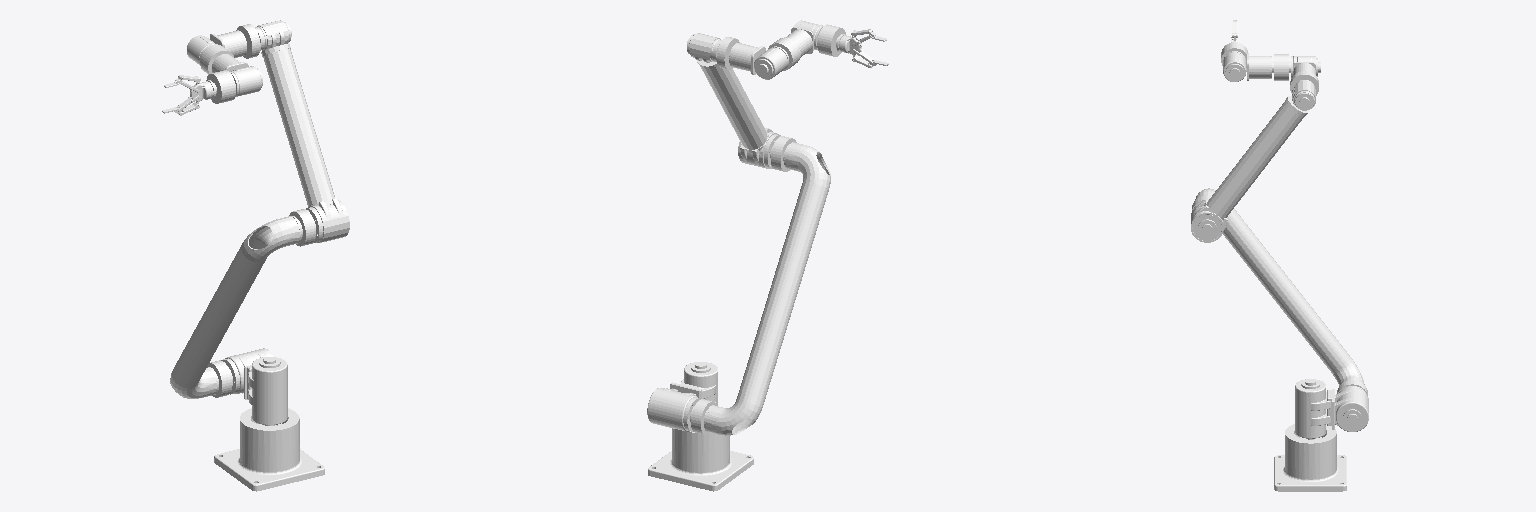
The robot description file, URDF, robot "qf_space_manipulator":
<?xml version="1.0" encoding="utf-8"?>
<!-- This URDF was automatically created by SolidWorks to URDF Exporter! Originally created by [author] ([email redacted]) 
     Commit Version: 1.6.0-1-g15f4949  Build Version: 1.6.7594.29634
     For more information, please see http://wiki.ros.org/sw_urdf_exporter -->
<robot
  name="qf_space_manipulator">
  <link
    name="base_link">
    <inertial>
      <origin
        xyz="0.175000065234684 -1.28353998601978 0.0846256448065584"
        rpy="0 0 0" />
      <mass
        value="9.63410834932178" />
      <inertia
        ixx="0.118228807956081"
        ixy="-5.0957321181862E-07"
        ixz="1.72062364122864E-09"
        iyy="0.118225953121689"
        iyz="4.16913652507129E-17"
        izz="0.137194156018786" />
    </inertial>
    <visual>
      <origin
        xyz="0 0 0"
        rpy="0 0 0" />
      <geometry>
        <mesh
          filename="package://qf_space_manipulator/meshes/base_link.STL" />
      </geometry>
      <material
        name="">
        <color
          rgba="1 1 1 1" />
      </material>
    </visual>
    <collision>
      <origin
        xyz="0 0 0"
        rpy="0 0 0" />
      <geometry>
        <mesh
          filename="package://qf_space_manipulator/meshes/base_link.STL" />
      </geometry>
    </collision>
  </link>
  <link
    name="Link1">
    <inertial>
      <origin
        xyz="-0.10023640362579 -0.00344641251692088 0.174250351355485"
        rpy="0 0 0" />
      <mass
        value="5.17491872844292" />
      <inertia
        ixx="0.0304221927243367"
        ixy="0.00255793298706213"
        ixz="0.000566537933529525"
        iyy="0.0524628663009184"
        iyz="-5.38795635070424E-05"
        izz="0.0437592826397428" />
    </inertial>
    <visual>
      <origin
        xyz="0 0 0"
        rpy="0 0 0" />
      <geometry>
        <mesh
          filename="package://qf_space_manipulator/meshes/Link1.STL" />
      </geometry>
      <material
        name="">
        <color
          rgba="1 1 1 1" />
      </material>
    </visual>
    <collision>
      <origin
        xyz="0 0 0"
        rpy="0 0 0" />
      <geometry>
        <mesh
          filename="package://qf_space_manipulator/meshes/Link1.STL" />
      </geometry>
    </collision>
  </link>
  <joint
    name="joint1"
    type="revolute">
    <origin
      xyz="0.175 -1.28353998602675 0.180000000000021"
      rpy="0 0 -1.5707963267949" />
    <parent
      link="base_link" />
    <child
      link="Link1" />
    <axis
      xyz="0 0 -1" />
    <limit
      lower="0"
      upper="0"
      effort="0"
      velocity="0" />
  </joint>
  <link
    name="Link2">
    <inertial>
      <origin
        xyz="0.466771973200787 -0.0200679208590893 0.656279146890149"
        rpy="0 0 0" />
      <mass
        value="5.06670898247749" />
      <inertia
        ixx="0.3470792896805"
        ixy="1.04550875056428E-05"
        ixz="-0.229276580302284"
        iyy="0.500779642027053"
        iyz="1.48421856668549E-05"
        izz="0.187791160297581" />
    </inertial>
    <visual>
      <origin
        xyz="0 0 0"
        rpy="0 0 0" />
      <geometry>
        <mesh
          filename="package://qf_space_manipulator/meshes/Link2.STL" />
      </geometry>
      <material
        name="">
        <color
          rgba="1 1 1 1" />
      </material>
    </visual>
    <collision>
      <origin
        xyz="0 0 0"
        rpy="0 0 0" />
      <geometry>
        <mesh
          filename="package://qf_space_manipulator/meshes/Link2.STL" />
      </geometry>
    </collision>
  </link>
  <joint
    name="joint2"
    type="revolute">
    <origin
      xyz="-0.199999999999705 -0.164019999999946 0.179999999999324"
      rpy="0 0 0" />
    <parent
      link="Link1" />
    <child
      link="Link2" />
    <axis
      xyz="0 -1 0" />
    <limit
      lower="0"
      upper="0"
      effort="0"
      velocity="0" />
  </joint>
  <link
    name="Link3">
    <inertial>
      <origin
        xyz="-0.26645118399556 -0.079424732084338 0.38167788397144"
        rpy="0 0 0" />
      <mass
        value="3.09946963131409" />
      <inertia
        ixx="0.149105958907437"
        ixy="-1.89957749734383E-05"
        ixz="0.0977586144353564"
        iyy="0.219315567296226"
        iyz="2.72491726693336E-05"
        izz="0.0773167516090272" />
    </inertial>
    <visual>
      <origin
        xyz="0 0 0"
        rpy="0 0 0" />
      <geometry>
        <mesh
          filename="package://qf_space_manipulator/meshes/Link3.STL" />
      </geometry>
      <material
        name="">
        <color
          rgba="1 1 1 1" />
      </material>
    </visual>
    <collision>
      <origin
        xyz="0 0 0"
        rpy="0 0 0" />
      <geometry>
        <mesh
          filename="package://qf_space_manipulator/meshes/Link3.STL" />
      </geometry>
    </collision>
  </link>
  <joint
    name="joint3"
    type="revolute">
    <origin
      xyz="0.695520649063987 0.219020000000473 0.97788088575548"
      rpy="0 0 0" />
    <parent
      link="Link2" />
    <child
      link="Link3" />
    <axis
      xyz="0 1 0" />
    <limit
      lower="0"
      upper="0"
      effort="0"
      velocity="0" />
  </joint>
  <link
    name="Link4">
    <inertial>
      <origin
        xyz="0.0339777660443481 -0.108927859924944 -5.01533037322588E-09"
        rpy="0 0 0" />
      <mass
        value="1.32312071913896" />
      <inertia
        ixx="0.0040376799409881"
        ixy="2.8629913833031E-06"
        ixz="-4.78825536786573E-11"
        iyy="0.0025574469782764"
        iyz="-2.53060943732125E-10"
        izz="0.00390753680935879" />
    </inertial>
    <visual>
      <origin
        xyz="0 0 0"
        rpy="0 0 0" />
      <geometry>
        <mesh
          filename="package://qf_space_manipulator/meshes/Link4.STL" />
      </geometry>
      <material
        name="">
        <color
          rgba="1 1 1 1" />
      </material>
    </visual>
    <collision>
      <origin
        xyz="0 0 0"
        rpy="0 0 0" />
      <geometry>
        <mesh
          filename="package://qf_space_manipulator/meshes/Link4.STL" />
      </geometry>
    </collision>
  </link>
  <joint
    name="joint4"
    type="revolute">
    <origin
      xyz="-0.466520649051403 -0.211099999835117 0.668269020696948"
      rpy="0 0 0" />
    <parent
      link="Link3" />
    <child
      link="Link4" />
    <axis
      xyz="0 1 0" />
    <limit
      lower="0"
      upper="0"
      effort="0"
      velocity="0" />
  </joint>
  <link
    name="Link5">
    <inertial>
      <origin
        xyz="0.116820494902411 -0.0388858014695093 9.49856462728604E-05"
        rpy="0 0 0" />
      <mass
        value="1.49665109696271" />
      <inertia
        ixx="0.00362010787485334"
        ixy="2.87189467699518E-06"
        ixz="-7.52821732655946E-09"
        iyy="0.00411237521489435"
        iyz="2.18423673209098E-06"
        izz="0.00497019007843053" />
    </inertial>
    <visual>
      <origin
        xyz="0 0 0"
        rpy="0 0 0" />
      <geometry>
        <mesh
          filename="package://qf_space_manipulator/meshes/Link5.STL" />
      </geometry>
      <material
        name="">
        <color
          rgba="1 1 1 1" />
      </material>
    </visual>
    <collision>
      <origin
        xyz="0 0 0"
        rpy="0 0 0" />
      <geometry>
        <mesh
          filename="package://qf_space_manipulator/meshes/Link5.STL" />
      </geometry>
    </collision>
  </link>
  <joint
    name="joint5"
    type="revolute">
    <origin
      xyz="0.157999999987109 -0.17700000017881 0"
      rpy="0 0 0" />
    <parent
      link="Link4" />
    <child
      link="Link5" />
    <axis
      xyz="-1 0 0" />
    <limit
      lower="0"
      upper="0"
      effort="0"
      velocity="0" />
  </joint>
  <link
    name="Link6">
    <inertial>
      <origin
        xyz="2.28098209260619E-05 -0.0320807203623127 -5.37221285679124E-07"
        rpy="0 0 0" />
      <mass
        value="0.225883780891649" />
      <inertia
        ixx="0.000200276096336215"
        ixy="1.12516805106898E-07"
        ixz="-8.90541740359369E-09"
        iyy="0.000134409410807654"
        iyz="-4.88400860706578E-10"
        izz="0.000175807968226694" />
    </inertial>
    <visual>
      <origin
        xyz="0 0 0"
        rpy="0 0 0" />
      <geometry>
        <mesh
          filename="package://qf_space_manipulator/meshes/Link6.STL" />
      </geometry>
      <material
        name="">
        <color
          rgba="1 1 1 1" />
      </material>
    </visual>
    <collision>
      <origin
        xyz="0 0 0"
        rpy="0 0 0" />
      <geometry>
        <mesh
          filename="package://qf_space_manipulator/meshes/Link6.STL" />
      </geometry>
    </collision>
  </link>
  <joint
    name="joint6"
    type="revolute">
    <origin
      xyz="0.176999999990653 -0.167999494802491 0.000411998519138201"
      rpy="-0.00245237457649197 0 0" />
    <parent
      link="Link5" />
    <child
      link="Link6" />
    <axis
      xyz="0 -1 0" />
    <limit
      lower="0"
      upper="0"
      effort="0"
      velocity="0" />
  </joint>
  <link
    name="Link7">
    <inertial>
      <origin
        xyz="-0.000181478067869945 -0.0317448329689773 0.0398064144277606"
        rpy="0 0 0" />
      <mass
        value="0.0319358386218752" />
      <inertia
        ixx="2.01085931432526E-05"
        ixy="3.12789550275446E-09"
        ixz="-8.8632784447456E-10"
        iyy="5.09514460934359E-06"
        iyz="6.17937194323444E-06"
        izz="1.90791381720628E-05" />
    </inertial>
    <visual>
      <origin
        xyz="0 0 0"
        rpy="0 0 0" />
      <geometry>
        <mesh
          filename="package://qf_space_manipulator/meshes/Link7.STL" />
      </geometry>
      <material
        name="">
        <color
          rgba="1 1 1 1" />
      </material>
    </visual>
    <collision>
      <origin
        xyz="0 0 0"
        rpy="0 0 0" />
      <geometry>
        <mesh
          filename="package://qf_space_manipulator/meshes/Link7.STL" />
      </geometry>
    </collision>
  </link>
  <joint
    name="joint7"
    type="revolute">
    <origin
      xyz="0 -0.054663 0.030601"
      rpy="0 0 0" />
    <parent
      link="Link6" />
    <child
      link="Link7" />
    <axis
      xyz="1 0 0" />
    <limit
      lower="0"
      upper="0"
      effort="0"
      velocity="0" />
    <mimic
      joint="joint8"
      multiplier="1"
      offset="0" />
  </joint>
  <link
    name="Link8">
    <inertial>
      <origin
        xyz="-5.00165586529988E-05 -0.0438269624455681 0.0301838581399925"
        rpy="0 0 0" />
      <mass
        value="0.0252265093199784" />
      <inertia
        ixx="1.6808616481803E-05"
        ixy="-2.12045463573026E-11"
        ixz="1.53180584275812E-11"
        iyy="7.9387147036509E-06"
        iyz="7.58011607165621E-06"
        izz="1.36915220963734E-05" />
    </inertial>
    <visual>
      <origin
        xyz="0 0 0"
        rpy="0 0 0" />
      <geometry>
        <mesh
          filename="package://qf_space_manipulator/meshes/Link8.STL" />
      </geometry>
      <material
        name="">
        <color
          rgba="1 1 1 1" />
      </material>
    </visual>
    <collision>
      <origin
        xyz="0 0 0"
        rpy="0 0 0" />
      <geometry>
        <mesh
          filename="package://qf_space_manipulator/meshes/Link8.STL" />
      </geometry>
    </collision>
  </link>
  <joint
    name="joint8"
    type="revolute">
    <origin
      xyz="0 -0.061178 0.0127"
      rpy="0 0 0" />
    <parent
      link="Link6" />
    <child
      link="Link8" />
    <axis
      xyz="1 0 0" />
    <limit
      lower="0"
      upper="45"
      effort="0"
      velocity="0" />
  </joint>
  <link
    name="Link11">
    <inertial>
      <origin
        xyz="-0.000200000020441404 0.00181476872250885 0.00846774554587926"
        rpy="0 0 0" />
      <mass
        value="0.00721958961039276" />
      <inertia
        ixx="6.54404874424823E-07"
        ixy="-1.22054472984936E-15"
        ixz="-6.62770202363781E-13"
        iyy="6.47825684492298E-07"
        iyz="-1.54040746931974E-07"
        izz="4.21420299143768E-07" />
    </inertial>
    <visual>
      <origin
        xyz="0 0 0"
        rpy="0 0 0" />
      <geometry>
        <mesh
          filename="package://qf_space_manipulator/meshes/Link11.STL" />
      </geometry>
      <material
        name="">
        <color
          rgba="1 1 1 1" />
      </material>
    </visual>
    <collision>
      <origin
        xyz="0 0 0"
        rpy="0 0 0" />
      <geometry>
        <mesh
          filename="package://qf_space_manipulator/meshes/Link11.STL" />
      </geometry>
    </collision>
  </link>
  <joint
    name="joint11"
    type="revolute">
    <origin
      xyz="0 -0.082385 0.05668"
      rpy="0 0 0" />
    <parent
      link="Link8" />
    <child
      link="Link11" />
    <axis
      xyz="1 0 0" />
    <limit
      lower="0"
      upper="0"
      effort="0"
      velocity="0" />
    <mimic
      joint="joint8"
      multiplier="-1"
      offset="0" />
  </joint>
  <link
    name="Link9">
    <inertial>
      <origin
        xyz="-5.00161187924064E-05 -0.0482044913916658 -0.0225431825096782"
        rpy="0 0 0" />
      <mass
        value="0.0252265101127249" />
      <inertia
        ixx="1.6808617666226E-05"
        ixy="-2.37792659310917E-11"
        ixz="-1.04792046679214E-11"
        iyy="5.60564073206646E-06"
        iyz="-6.21234299435615E-06"
        izz="1.60245973553727E-05" />
    </inertial>
    <visual>
      <origin
        xyz="0 0 0"
        rpy="0 0 0" />
      <geometry>
        <mesh
          filename="package://qf_space_manipulator/meshes/Link9.STL" />
      </geometry>
      <material
        name="">
        <color
          rgba="1 1 1 1" />
      </material>
    </visual>
    <collision>
      <origin
        xyz="0 0 0"
        rpy="0 0 0" />
      <geometry>
        <mesh
          filename="package://qf_space_manipulator/meshes/Link9.STL" />
      </geometry>
    </collision>
  </link>
  <joint
    name="joint9"
    type="revolute">
    <origin
      xyz="0 -0.061178 -0.0127"
      rpy="0 0 0" />
    <parent
      link="Link6" />
    <child
      link="Link9" />
    <axis
      xyz="-1 0 0" />
    <limit
      lower="0"
      upper="0"
      effort="0"
      velocity="0" />
    <mimic
      joint="joint8"
      multiplier="1"
      offset="0" />
  </joint>
  <link
    name="Link12">
    <inertial>
      <origin
        xyz="1.95898852695109E-11 0.00181476855692436 -0.00846774547018936"
        rpy="0 0 0" />
      <mass
        value="0.00721958973240477" />
      <inertia
        ixx="6.54404894420929E-07"
        ixy="1.22110369400717E-15"
        ixz="-6.62019872333363E-13"
        iyy="6.47825689710172E-07"
        iyz="1.54040753114242E-07"
        izz="4.21420309970185E-07" />
    </inertial>
    <visual>
      <origin
        xyz="0 0 0"
        rpy="0 0 0" />
      <geometry>
        <mesh
          filename="package://qf_space_manipulator/meshes/Link12.STL" />
      </geometry>
      <material
        name="">
        <color
          rgba="1 1 1 1" />
      </material>
    </visual>
    <collision>
      <origin
        xyz="0 0 0"
        rpy="0 0 0" />
      <geometry>
        <mesh
          filename="package://qf_space_manipulator/meshes/Link12.STL" />
      </geometry>
    </collision>
  </link>
  <joint
    name="joint12"
    type="revolute">
    <origin
      xyz="0 -0.090563 -0.042406"
      rpy="0 0 0" />
    <parent
      link="Link9" />
    <child
      link="Link12" />
    <axis
      xyz="1 0 0" />
    <limit
      lower="0"
      upper="0"
      effort="0"
      velocity="0" />
    <mimic
      joint="joint9"
      multiplier="1"
      offset="0" />
  </joint>
  <link
    name="Link10">
    <inertial>
      <origin
        xyz="2.73117885352114E-06 -0.0378415938959361 -0.0340631082101284"
        rpy="0 0 0" />
      <mass
        value="0.0319358848099955" />
      <inertia
        ixx="2.01086352196278E-05"
        ixy="-3.23000917392899E-09"
        ixz="-3.60995549403207E-10"
        iyy="3.47222994627157E-06"
        iyz="-3.58549758813272E-06"
        izz="2.07021101800963E-05" />
    </inertial>
    <visual>
      <origin
        xyz="0 0 0"
        rpy="0 0 0" />
      <geometry>
        <mesh
          filename="package://qf_space_manipulator/meshes/Link10.STL" />
      </geometry>
      <material
        name="">
        <color
          rgba="1 1 1 1" />
      </material>
    </visual>
    <collision>
      <origin
        xyz="0 0 0"
        rpy="0 0 0" />
      <geometry>
        <mesh
          filename="package://qf_space_manipulator/meshes/Link10.STL" />
      </geometry>
    </collision>
  </link>
  <joint
    name="joint10"
    type="revolute">
    <origin
      xyz="0 -0.054663 -0.030601"
      rpy="0 0 0" />
    <parent
      link="Link6" />
    <child
      link="Link10" />
    <axis
      xyz="1 0 0" />
    <limit
      lower="0"
      upper="0"
      effort="0"
      velocity="0" />
    <mimic
      joint="joint9"
      multiplier="-1"
      offset="0" />
  </joint>
</robot>

--- Facts derived from the render (not from the file) ---
The picture shows the robot from 3 angles, left to right: view 1: azimuth 30°, elevation 25°; view 2: azimuth 150°, elevation 25°; view 3: azimuth 270°, elevation 25°; orthographic projection.
Model qf_space_manipulator with 13 links and 12 joints (12 revolute), rooted at base_link, posed all joints at 0.
Links seen in each view (by area): view 1: Link2, Link3, base_link, Link1, Link5, Link4; view 2: Link2, Link3, base_link, Link1, Link4, Link5; view 3: Link2, Link3, base_link, Link1, Link5, Link4.
Link boxes in pixels (x1,y1,x2,y2): Link2: (170,207,323,398); Link3: (236,20,349,242); base_link: (214,408,324,491); Link1: (207,348,287,425); Link5: (206,54,262,103); Link4: (187,30,246,74); Link2: (704,134,830,435); Link3: (687,33,778,168); base_link: (648,428,753,491); Link1: (647,362,717,434); Link4: (729,37,800,79); Link5: (786,20,845,57); Link2: (1192,188,1364,385); Link3: (1191,71,1318,242); base_link: (1274,424,1346,491); Link1: (1295,379,1368,439); Link5: (1221,42,1271,81); Link4: (1272,54,1320,80).
Bounding box of the posed robot: 0.9 × 0.8547 × 2.1 m (x, y, z).
13 mesh visuals loaded from 13 distinct referenced files (13 binary STL).